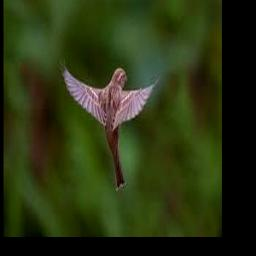Sparrow: (60, 59, 161, 190)
